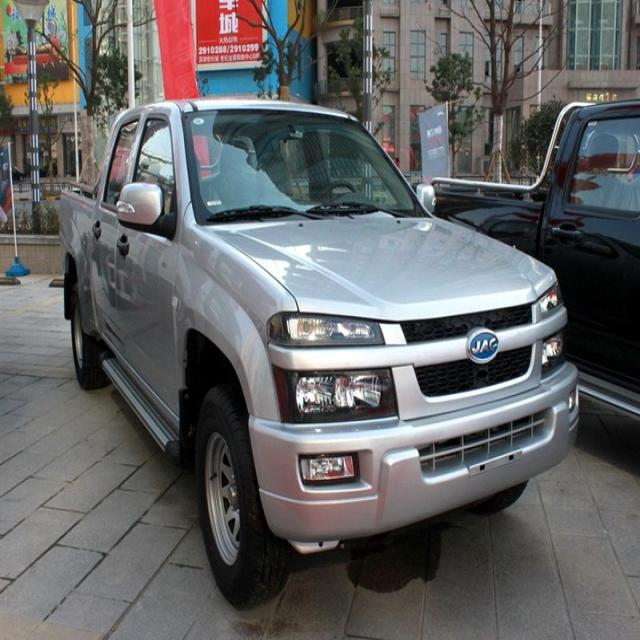front_bumper: (239, 357, 594, 558)
front_glass: (178, 105, 436, 231)
front_left_side_light: (521, 261, 570, 404)
front_left_side_mirror: (410, 175, 443, 232)
front_right_side_door: (106, 90, 195, 440)
front_right_side_light: (259, 300, 411, 430)
front_right_side_mirror: (113, 174, 180, 246)
wheel: (194, 374, 300, 607), (60, 255, 117, 400)
